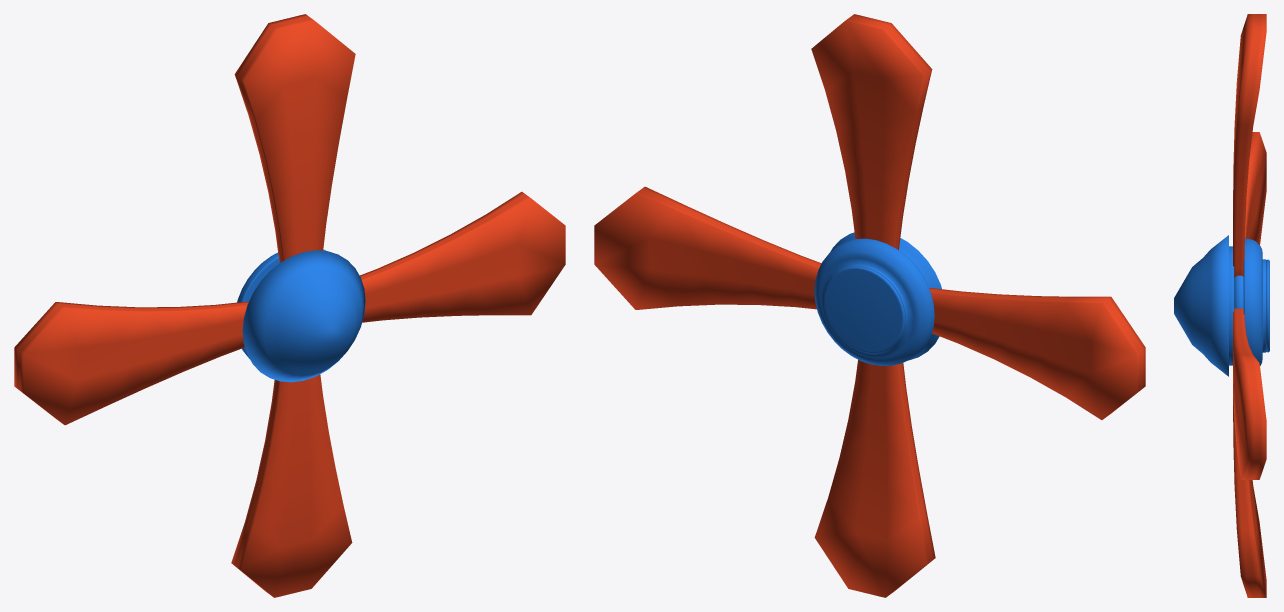
The model's file is fan3.fbx.
3 renders of one model, left to right at view 1: azimuth 30°, elevation 25°; view 2: azimuth 150°, elevation 25°; view 3: azimuth 270°, elevation 25°, orthographic.
Parts seen in each view (by area): view 1: Cartoon_Ceiling_Fan04; view 2: Cartoon_Ceiling_Fan04; view 3: Cartoon_Ceiling_Fan04.
Boxes of the visible parts, x1=… form: Cartoon_Ceiling_Fan04: x1=14, y1=14, x2=565, y2=597; Cartoon_Ceiling_Fan04: x1=594, y1=14, x2=1145, y2=597; Cartoon_Ceiling_Fan04: x1=1174, y1=14, x2=1269, y2=597.
Bounding box in the file's own units: 93.49 × 93.49 × 14.32.
